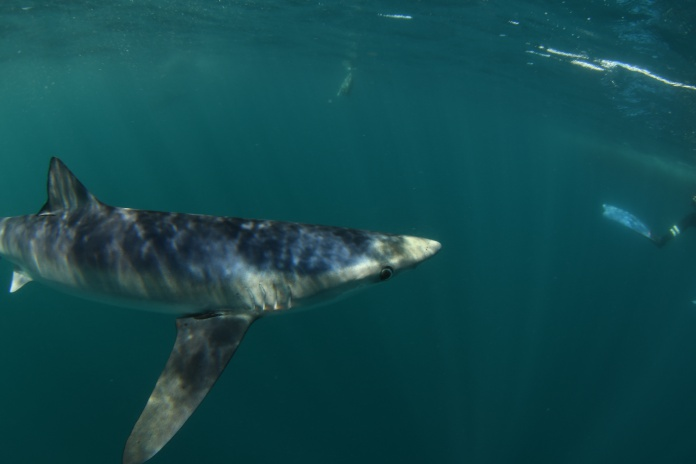Azul: (2, 152, 461, 464)
